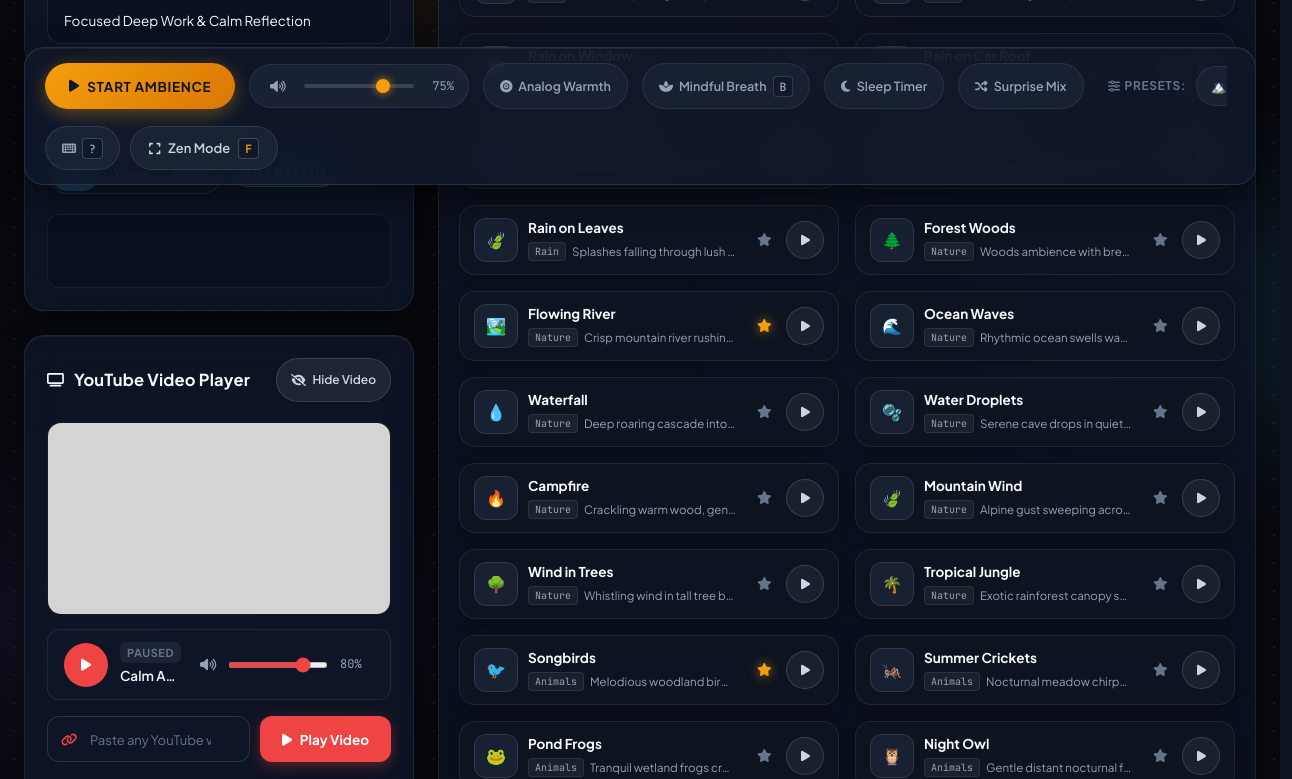
Scenario: Focus Station Page › renders YouTube Video player with direct link paste and fold toggle
(page scrolled)
Expected: the heading "YouTube Video Player" is shown, left=74, top=367, right=250, bottom=393
Expected: the field labelled "YouTube video link" is shown, left=47, top=716, right=250, bottom=762
Click the button labelled "Hide Video" at [334, 380], box left=276, top=358, right=391, bottom=402
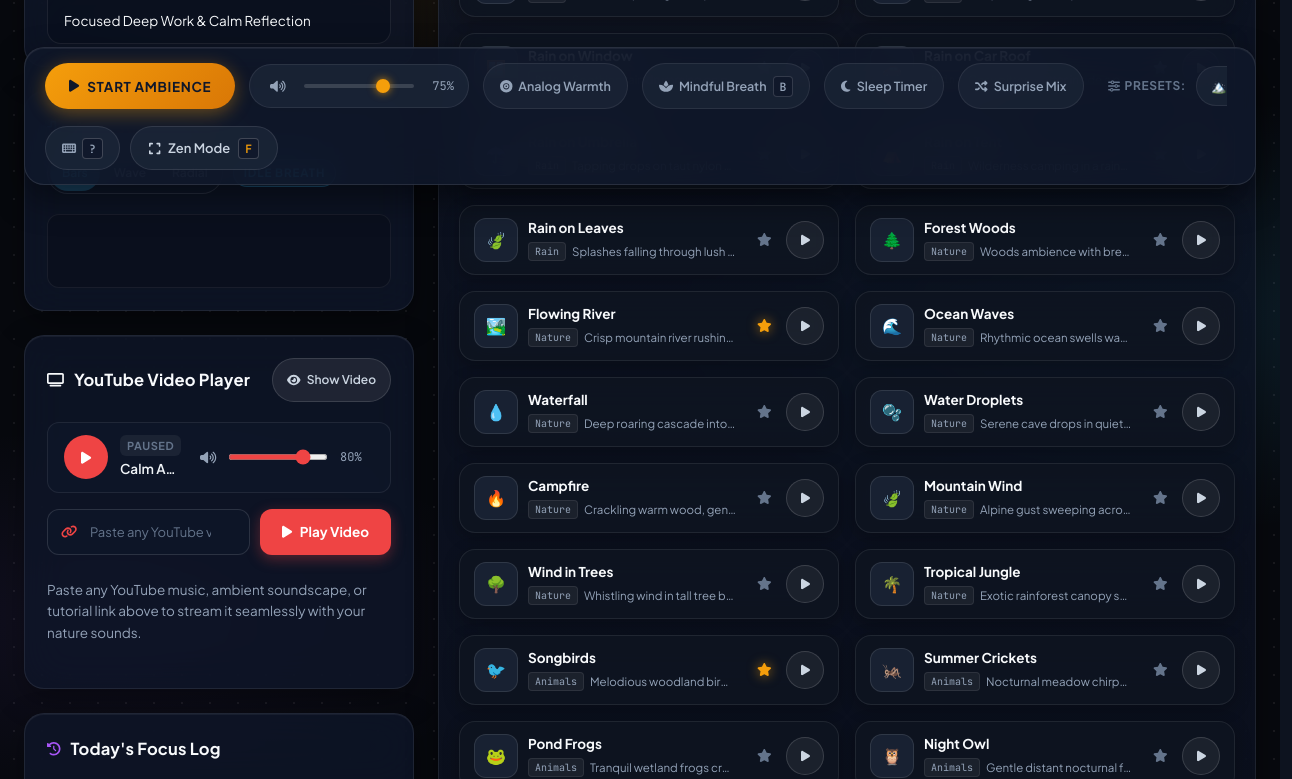
Now the button labelled "Show Video" is shown, box left=272, top=358, right=391, bottom=402
